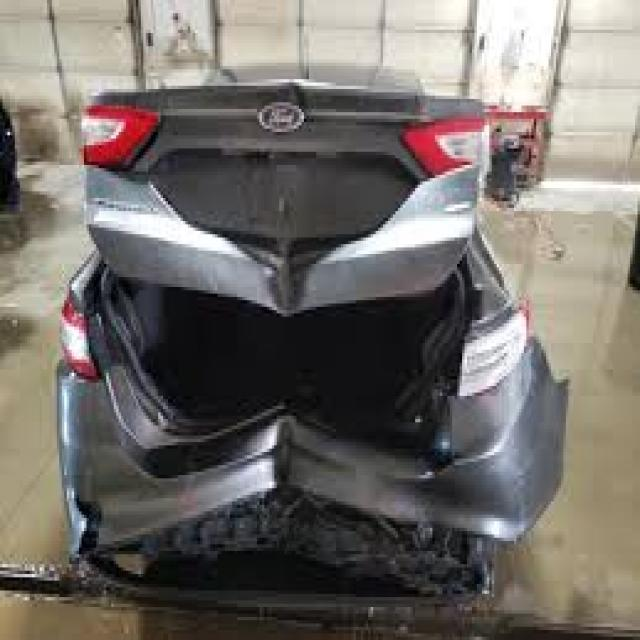damaged-trunk: (85, 78, 478, 391)
